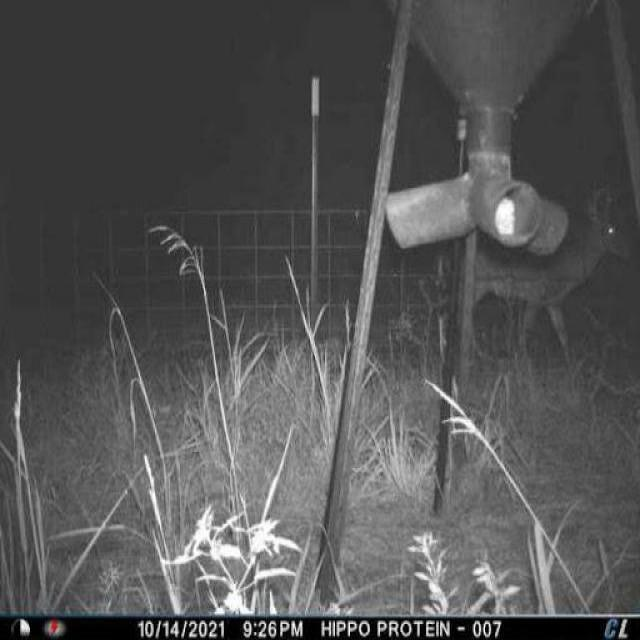deer: (448, 170, 636, 379)
